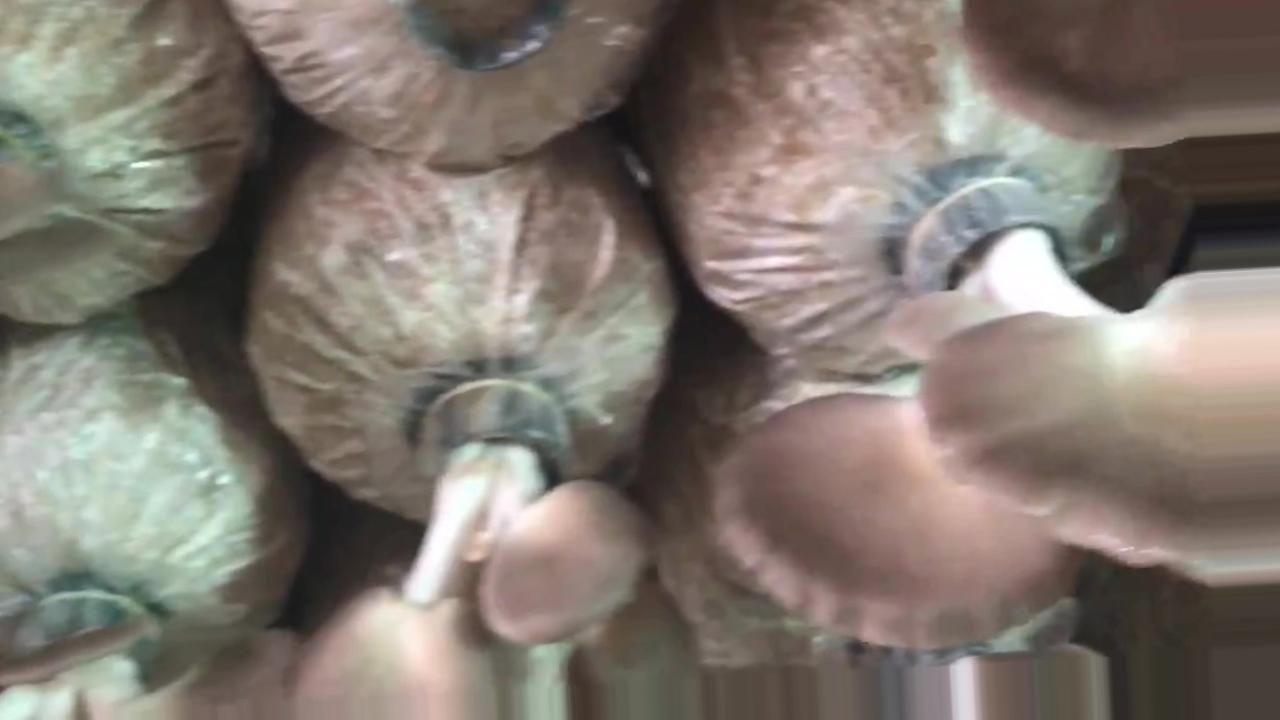nam: (706, 164, 1280, 653), (284, 366, 649, 720), (961, 1, 1278, 153)
